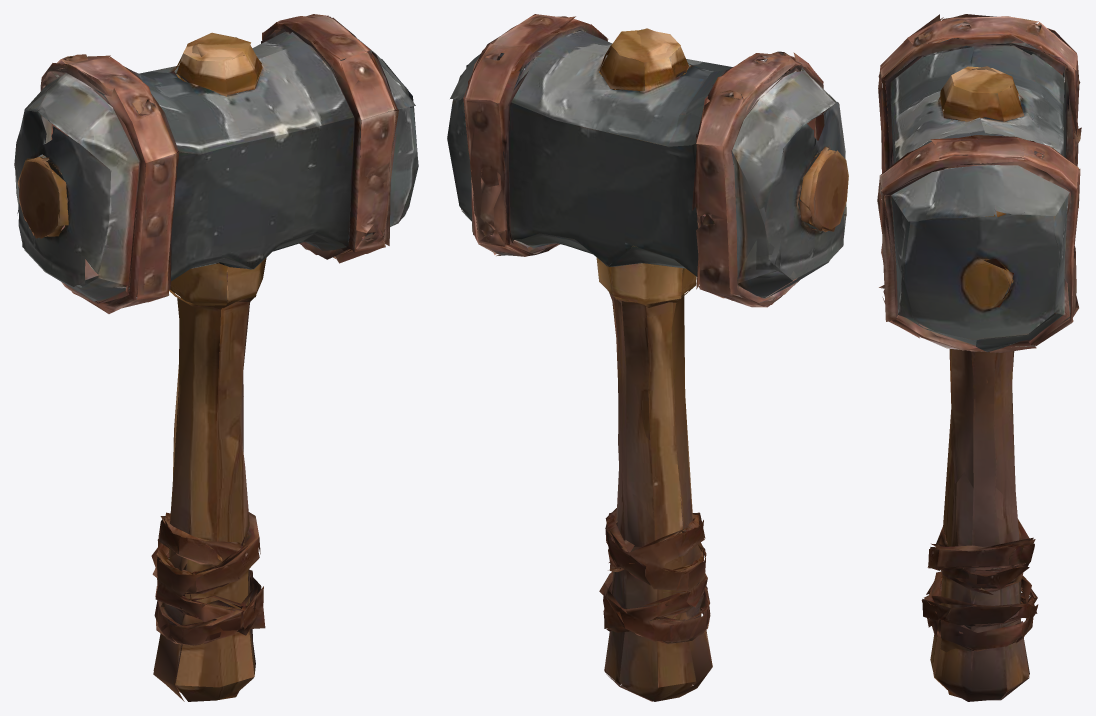
Rendered from brumm_hammer_mobile.glb.
3 views of the same model, side by side, from view 1: azimuth 30°, elevation 25°; view 2: azimuth 150°, elevation 25°; view 3: azimuth 270°, elevation 25° (orthographic). The views are drawn at different scales.
Visible parts, largest first — view 1: brumm_hammer_mobile; view 2: brumm_hammer_mobile; view 3: brumm_hammer_mobile.
Part boxes in pixels (bbox=[...]): brumm_hammer_mobile: bbox=[14, 14, 418, 701]; brumm_hammer_mobile: bbox=[447, 14, 848, 701]; brumm_hammer_mobile: bbox=[877, 14, 1081, 701].
Bounding box in the file's own units: 0.5536 × 0.9517 × 0.2838.
Materials: 1 (1 with a texture image).
